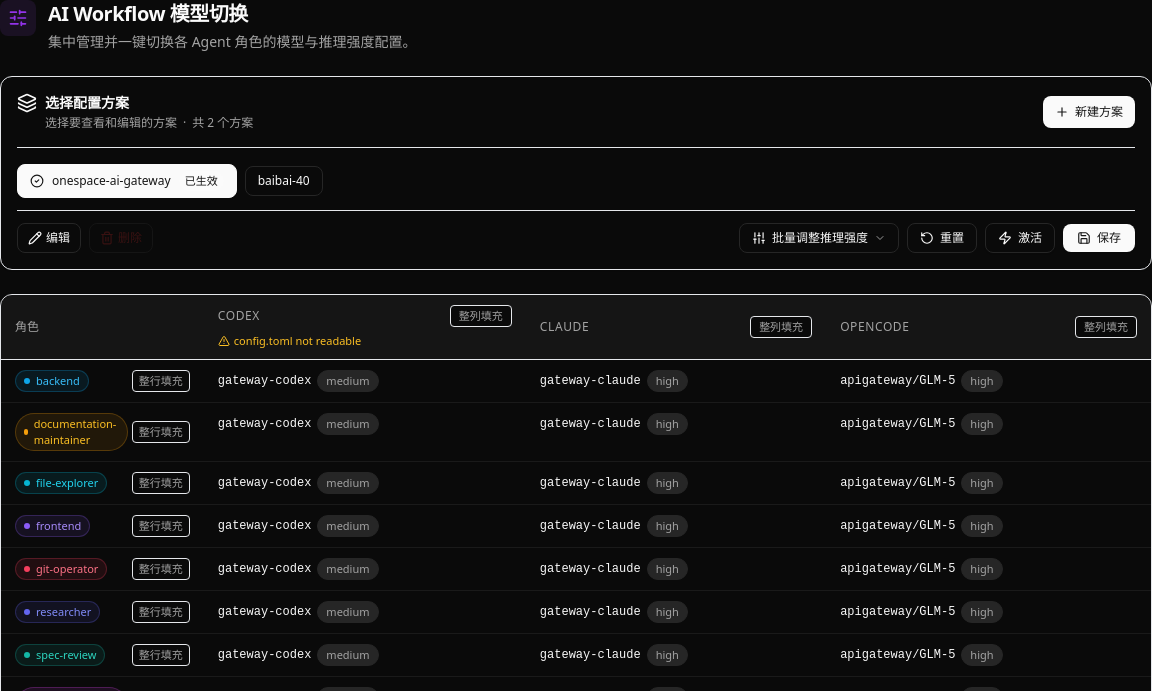
Test: AiWorkflowModelSwitcher 行为测试 › AC-004: 自动模型选项与单列降级 › 当某列来源读取失败时该列降级并支持手动输入，其他列正常保留自动选项
The image size is (1152, 691).
expect the element with test id "column-degraded-warning-codex" reads "config.toml not readable": met, box top-left (234, 333), bottom-right (361, 348)
Note: codex 列仍支持手动输入
Step 1. Click the cell with test id "cell-backend-codex" → (365,381), box top-left (204, 360), bottom-right (526, 402)
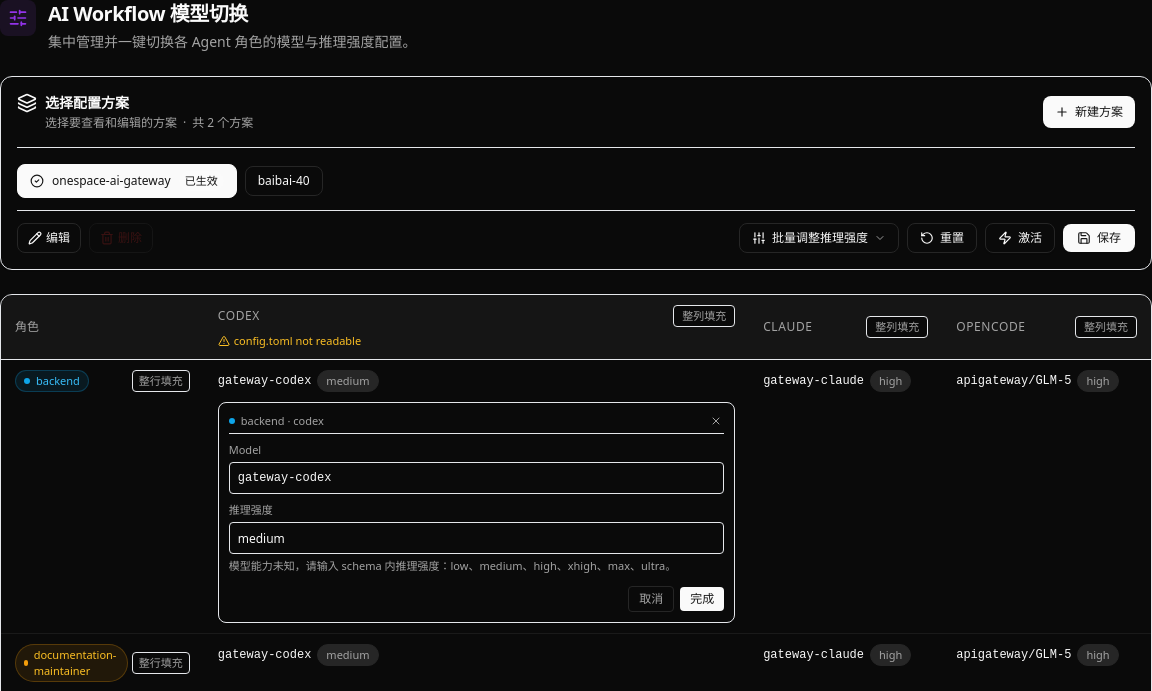
Step 2. Replace the text in the field with test id "manual-model-input-backend-codex" with "my-custom-codex-model" → (476,478), box top-left (229, 462), bottom-right (724, 494)
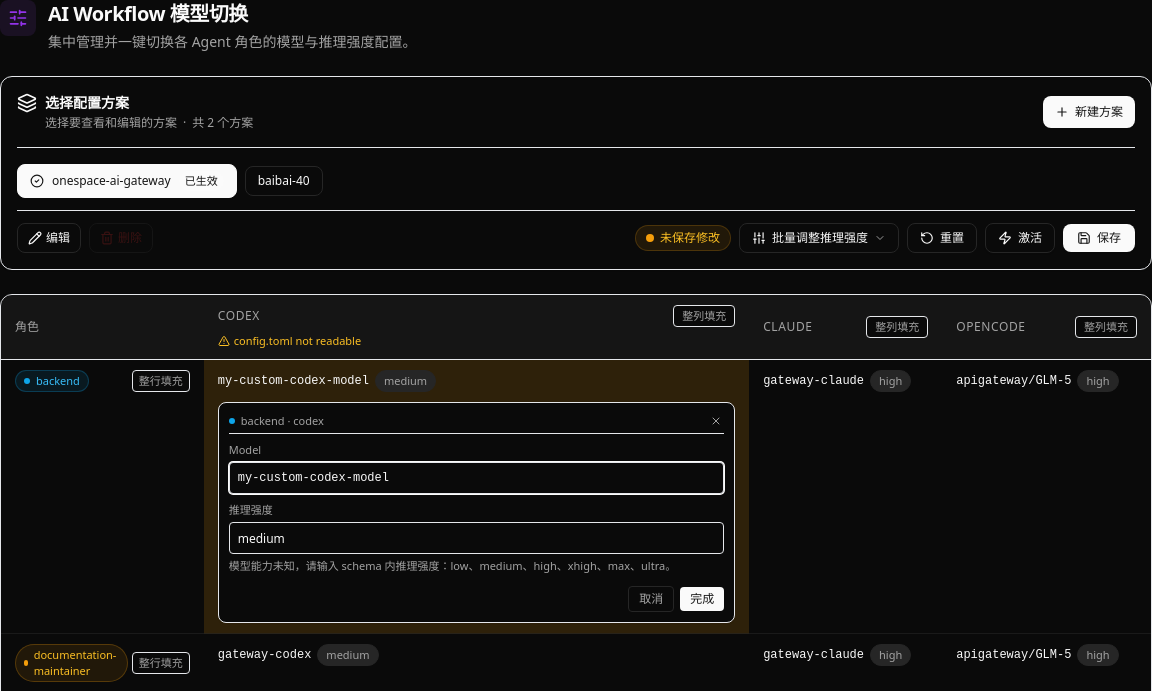
expect the cell with test id "cell-backend-codex" shows "my-custom-codex-model": met, box top-left (218, 374), bottom-right (369, 388)
Note: opencode 列的选项不受影响
Step 3. Click the cell with test id "cell-backend-opencode" → (1014,381), box top-left (942, 360), bottom-right (1151, 634)
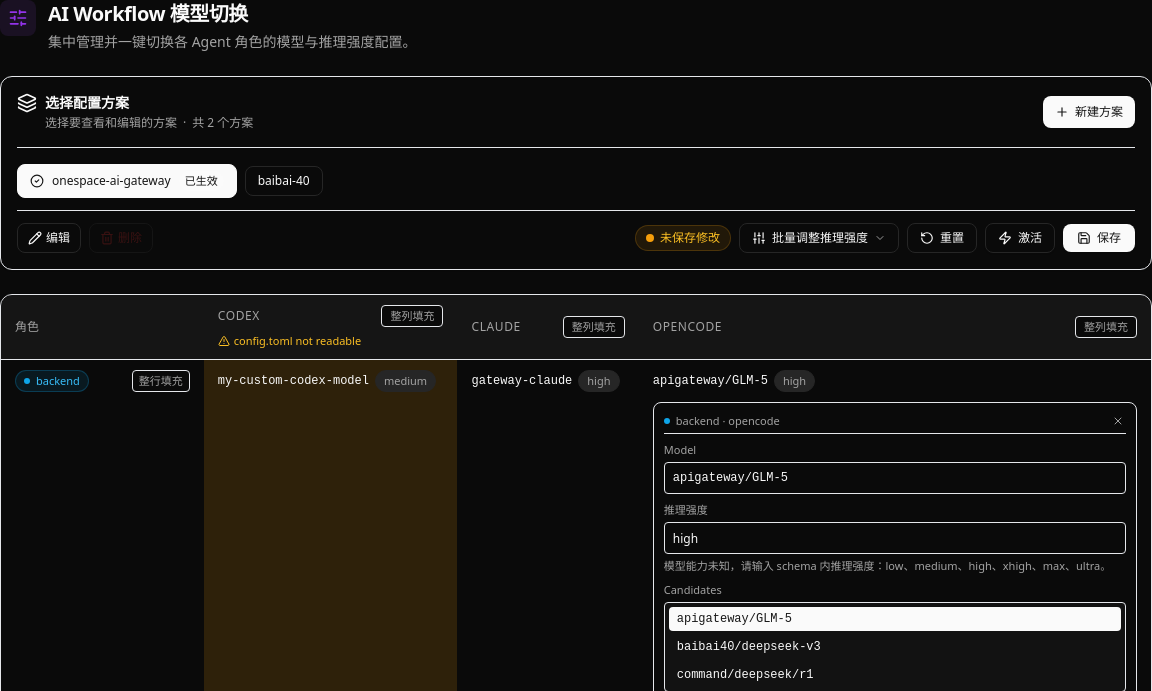
expect the element with test id "model-options-opencode" shows "apigateway/GLM-5": met, box top-left (669, 607), bottom-right (1121, 631)
